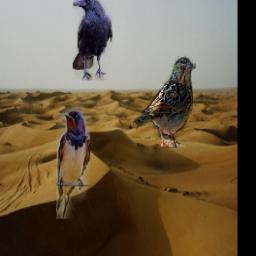Crow: (72, 0, 112, 80)
Sparrow: (132, 55, 195, 148)
Swallow: (55, 107, 89, 219)
